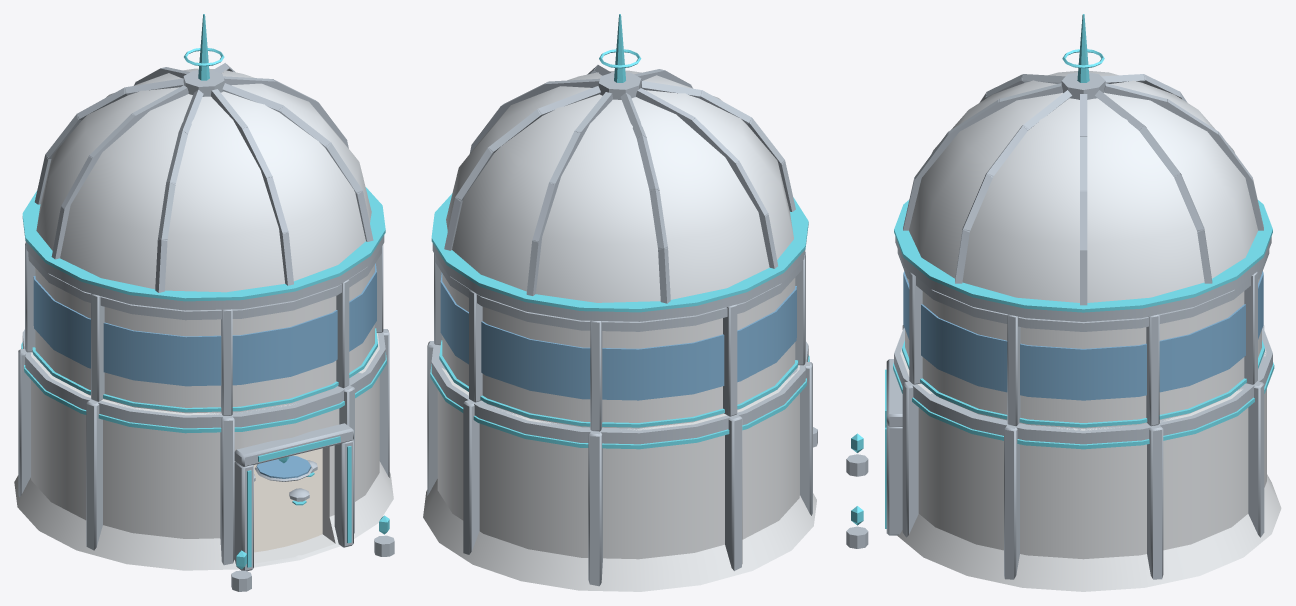
The model's file is CiudadCupula.fbx.
3 views of the same model, side by side, from view 1: azimuth 30°, elevation 25°; view 2: azimuth 150°, elevation 25°; view 3: azimuth 270°, elevation 25° (orthographic). The views are drawn at different scales.
Visible parts, largest first — view 1: CiudadCupula_Tope_Techo, CiudadCupula_Base_Cuerpo, CiudadCupula_Base_Metal, CiudadCupula_Medio_Cristal, CiudadCupula_Tope_Metal, CiudadCupula_Medio_Cuerpo, CiudadCupula_Medio_Metal, CiudadCupula_Tope_Luz, CiudadCupula_Base_Forro, CiudadCupula_Base_Luz, CiudadCupula_Medio_Luz, CiudadCupula_Base_Cristal; view 2: CiudadCupula_Tope_Techo, CiudadCupula_Base_Cuerpo, CiudadCupula_Medio_Cristal, CiudadCupula_Tope_Metal, CiudadCupula_Base_Metal, CiudadCupula_Medio_Cuerpo, CiudadCupula_Medio_Metal, CiudadCupula_Tope_Luz, CiudadCupula_Base_Luz, CiudadCupula_Medio_Luz; view 3: CiudadCupula_Tope_Techo, CiudadCupula_Base_Cuerpo, CiudadCupula_Base_Metal, CiudadCupula_Medio_Cristal, CiudadCupula_Tope_Metal, CiudadCupula_Medio_Cuerpo, CiudadCupula_Medio_Metal, CiudadCupula_Tope_Luz, CiudadCupula_Base_Luz, CiudadCupula_Medio_Luz.
Boxes of the visible parts, x1,y1,x2,y2 form: CiudadCupula_Tope_Techo: [36, 68, 371, 292]; CiudadCupula_Base_Cuerpo: [14, 333, 393, 570]; CiudadCupula_Base_Metal: [18, 329, 394, 591]; CiudadCupula_Medio_Cristal: [33, 263, 376, 386]; CiudadCupula_Tope_Metal: [25, 63, 384, 310]; CiudadCupula_Medio_Cuerpo: [35, 264, 374, 413]; CiudadCupula_Medio_Metal: [25, 243, 383, 415]; CiudadCupula_Tope_Luz: [22, 14, 385, 301]; CiudadCupula_Base_Forro: [254, 448, 322, 552]; CiudadCupula_Base_Luz: [21, 342, 389, 569]; CiudadCupula_Medio_Luz: [32, 328, 377, 412]; CiudadCupula_Base_Cristal: [257, 455, 310, 478]; CiudadCupula_Tope_Techo: [446, 70, 793, 302]; CiudadCupula_Base_Cuerpo: [423, 365, 816, 591]; CiudadCupula_Medio_Cristal: [440, 272, 796, 400]; CiudadCupula_Tope_Metal: [432, 65, 805, 321]; CiudadCupula_Base_Metal: [427, 341, 817, 586]; CiudadCupula_Medio_Cuerpo: [442, 274, 795, 428]; CiudadCupula_Medio_Metal: [434, 252, 805, 431]; CiudadCupula_Tope_Luz: [431, 14, 808, 312]; CiudadCupula_Base_Luz: [430, 355, 809, 449]; CiudadCupula_Medio_Luz: [439, 340, 798, 427]; CiudadCupula_Tope_Techo: [909, 71, 1258, 302]; CiudadCupula_Base_Cuerpo: [897, 349, 1281, 591]; CiudadCupula_Base_Metal: [846, 325, 1272, 579]; CiudadCupula_Medio_Cristal: [903, 271, 1263, 400]; CiudadCupula_Tope_Metal: [895, 72, 1271, 321]; CiudadCupula_Medio_Cuerpo: [905, 274, 1261, 428]; CiudadCupula_Medio_Metal: [897, 249, 1269, 426]; CiudadCupula_Tope_Luz: [894, 14, 1272, 312]; CiudadCupula_Base_Luz: [851, 362, 1274, 528]; CiudadCupula_Medio_Luz: [902, 340, 1264, 427].
Size of the model in its own units: 3240 by 4460 by 3560.
